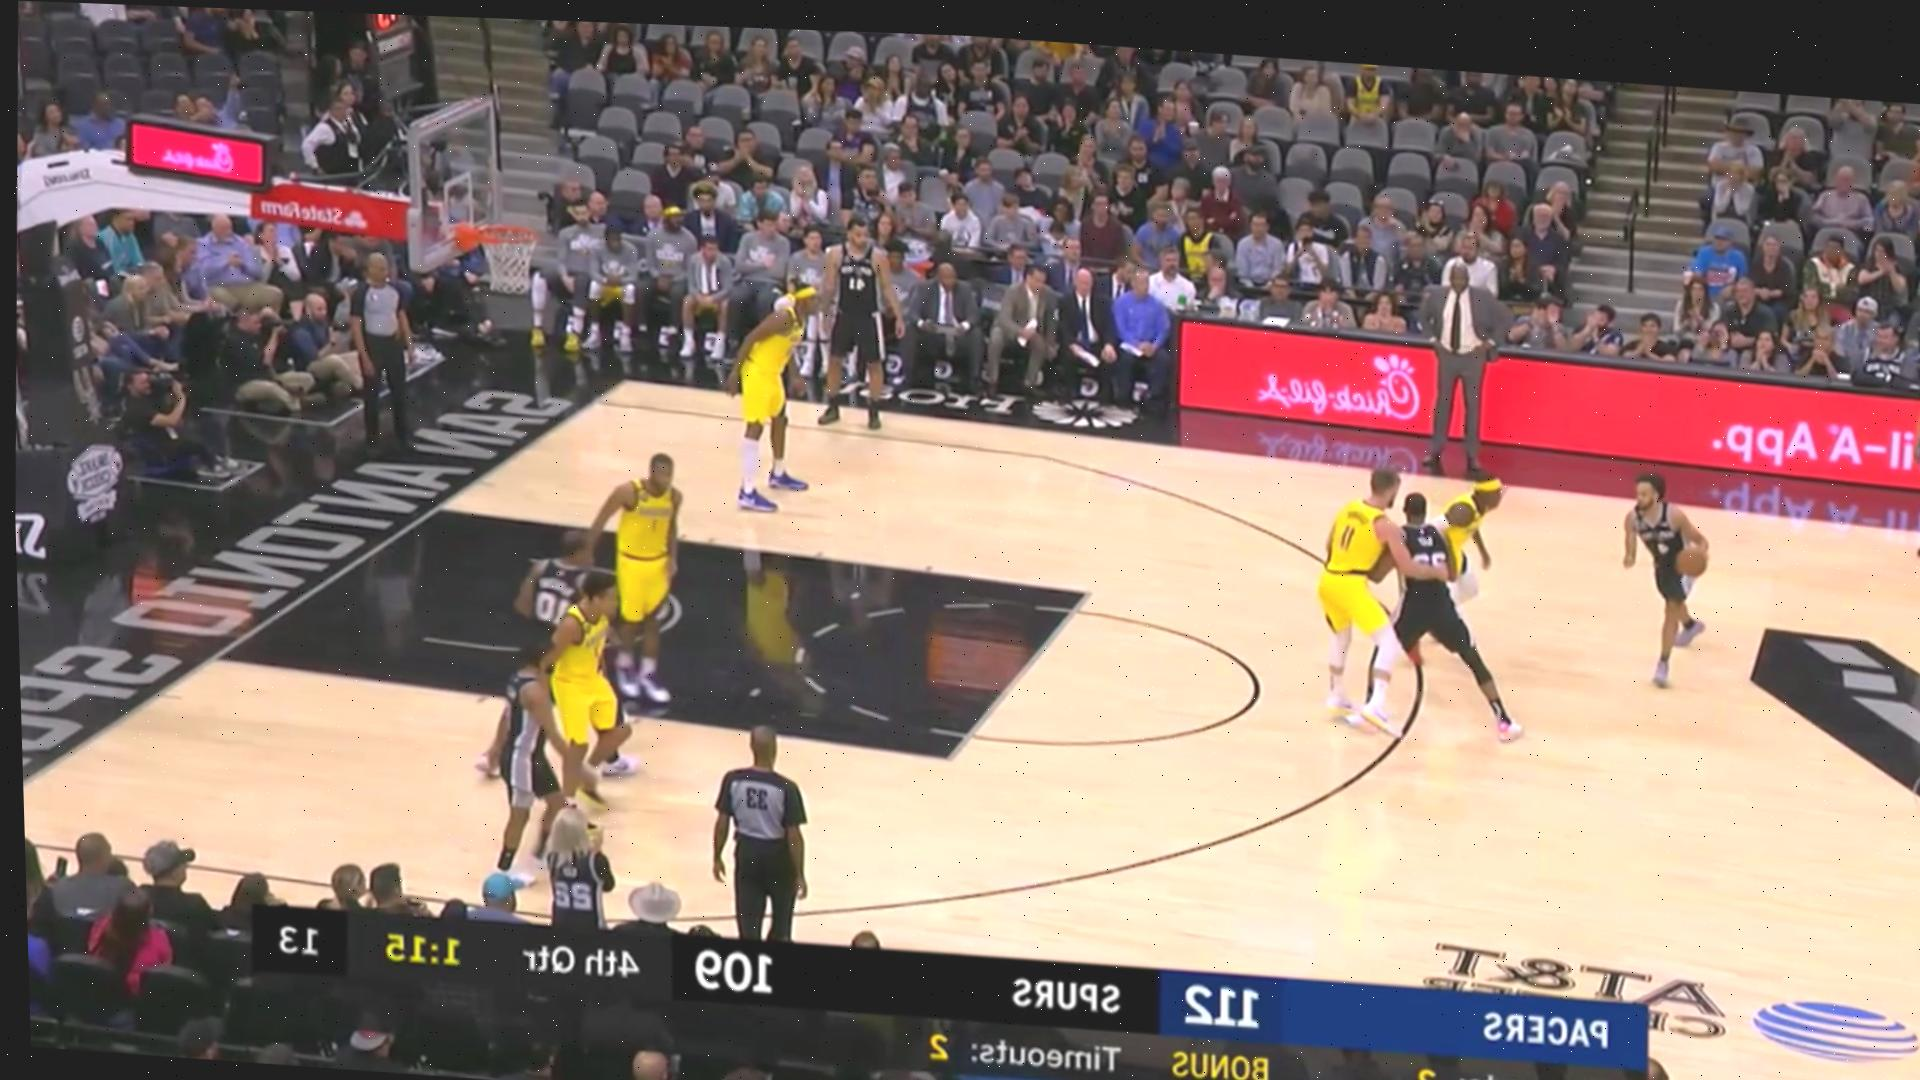no_foul: (455, 517, 628, 837)
